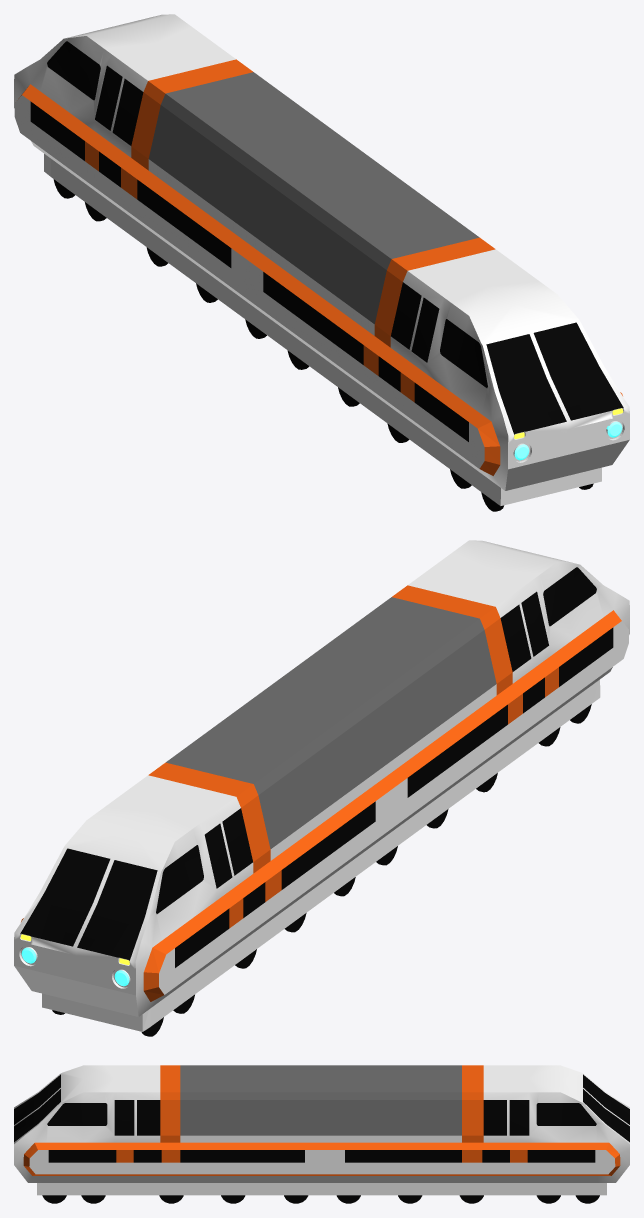
Rendered from train.glb.
The picture shows the model from 3 angles, top to bottom: view 1: azimuth 30°, elevation 25°; view 2: azimuth 150°, elevation 25°; view 3: azimuth 270°, elevation 25°; orthographic projection. The views are drawn at different scales.
Parts seen in each view (by area): view 1: Box021; view 2: Box021; view 3: Box021.
Boxes of the visible parts, x1=… form: Box021: x1=14, y1=14, x2=629, y2=511; Box021: x1=14, y1=540, x2=629, y2=1036; Box021: x1=14, y1=1065, x2=629, y2=1203.
Bounding box in the file's own units: 0.111 × 0.13 × 0.6584.
